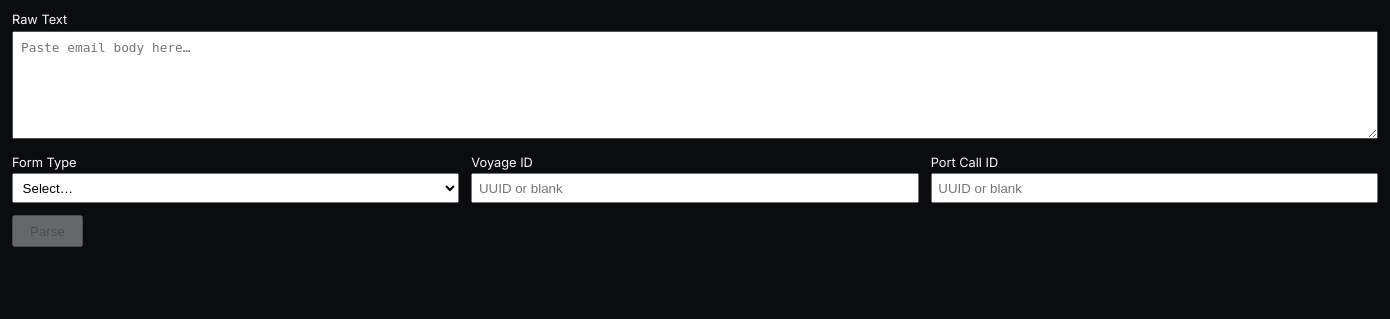
it: ParseBox › shows parse-failed warning when response has parse_failed=true
The width and height of the screenshot is (1390, 319).
Type "bad text" into the text box labelled "Raw Text".
click(695, 85); type("bad text")  # box [12,31,1378,139]
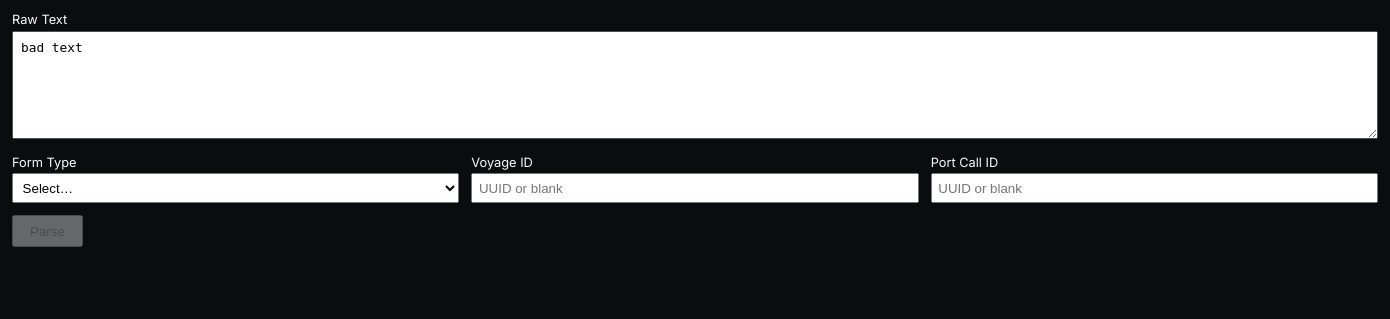
Select "Noon" in the dropdown labelled "Form Type" at (236, 188), box [12,173,459,203]
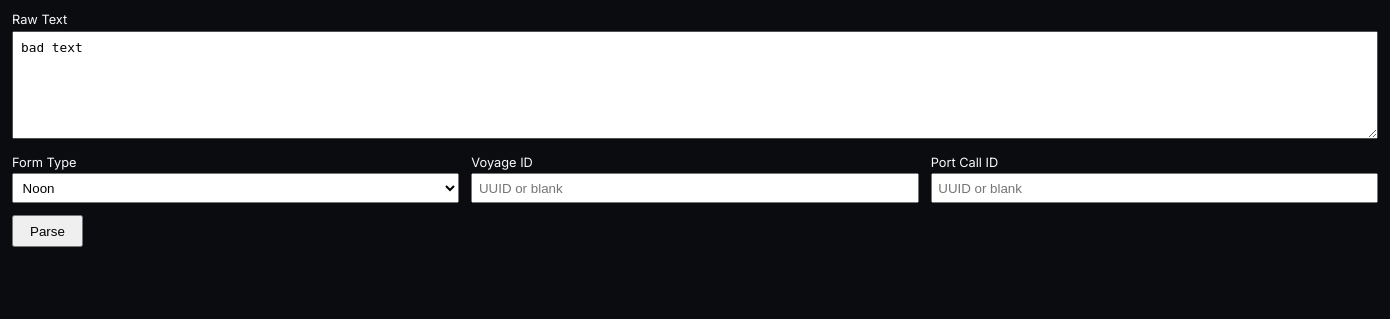
Type "voyage-xyz" into the field labelled "Voyage ID".
click(695, 188); type("voyage-xyz")  # box [471,173,919,203]
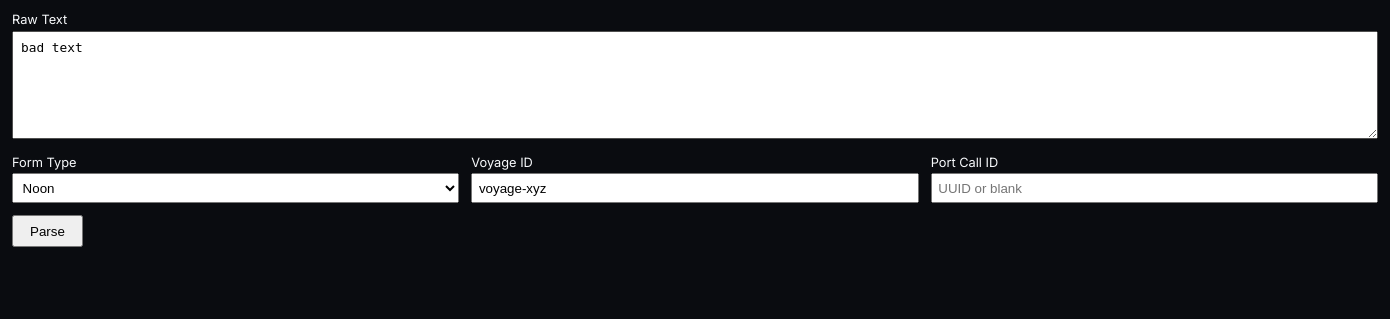
Click the button "Parse".
click(47, 231)  # box [12,215,83,247]
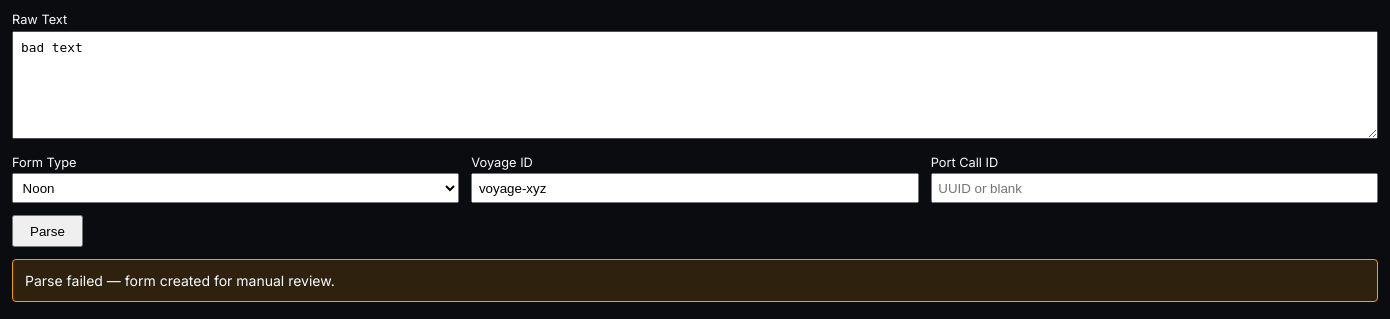
Expected: the text "Parse failed — form created for manual review." is shown, [12,259,1378,302]
